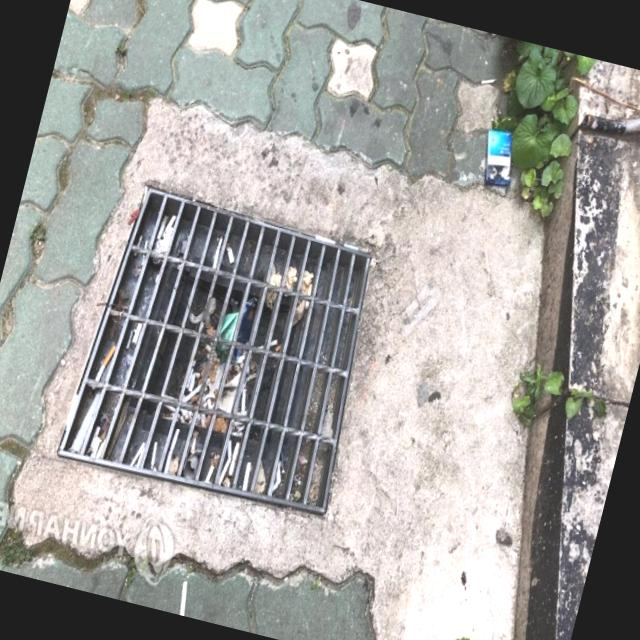drain_area: (118, 207, 279, 440), (242, 243, 367, 478)
drain_full: (60, 189, 369, 511)
